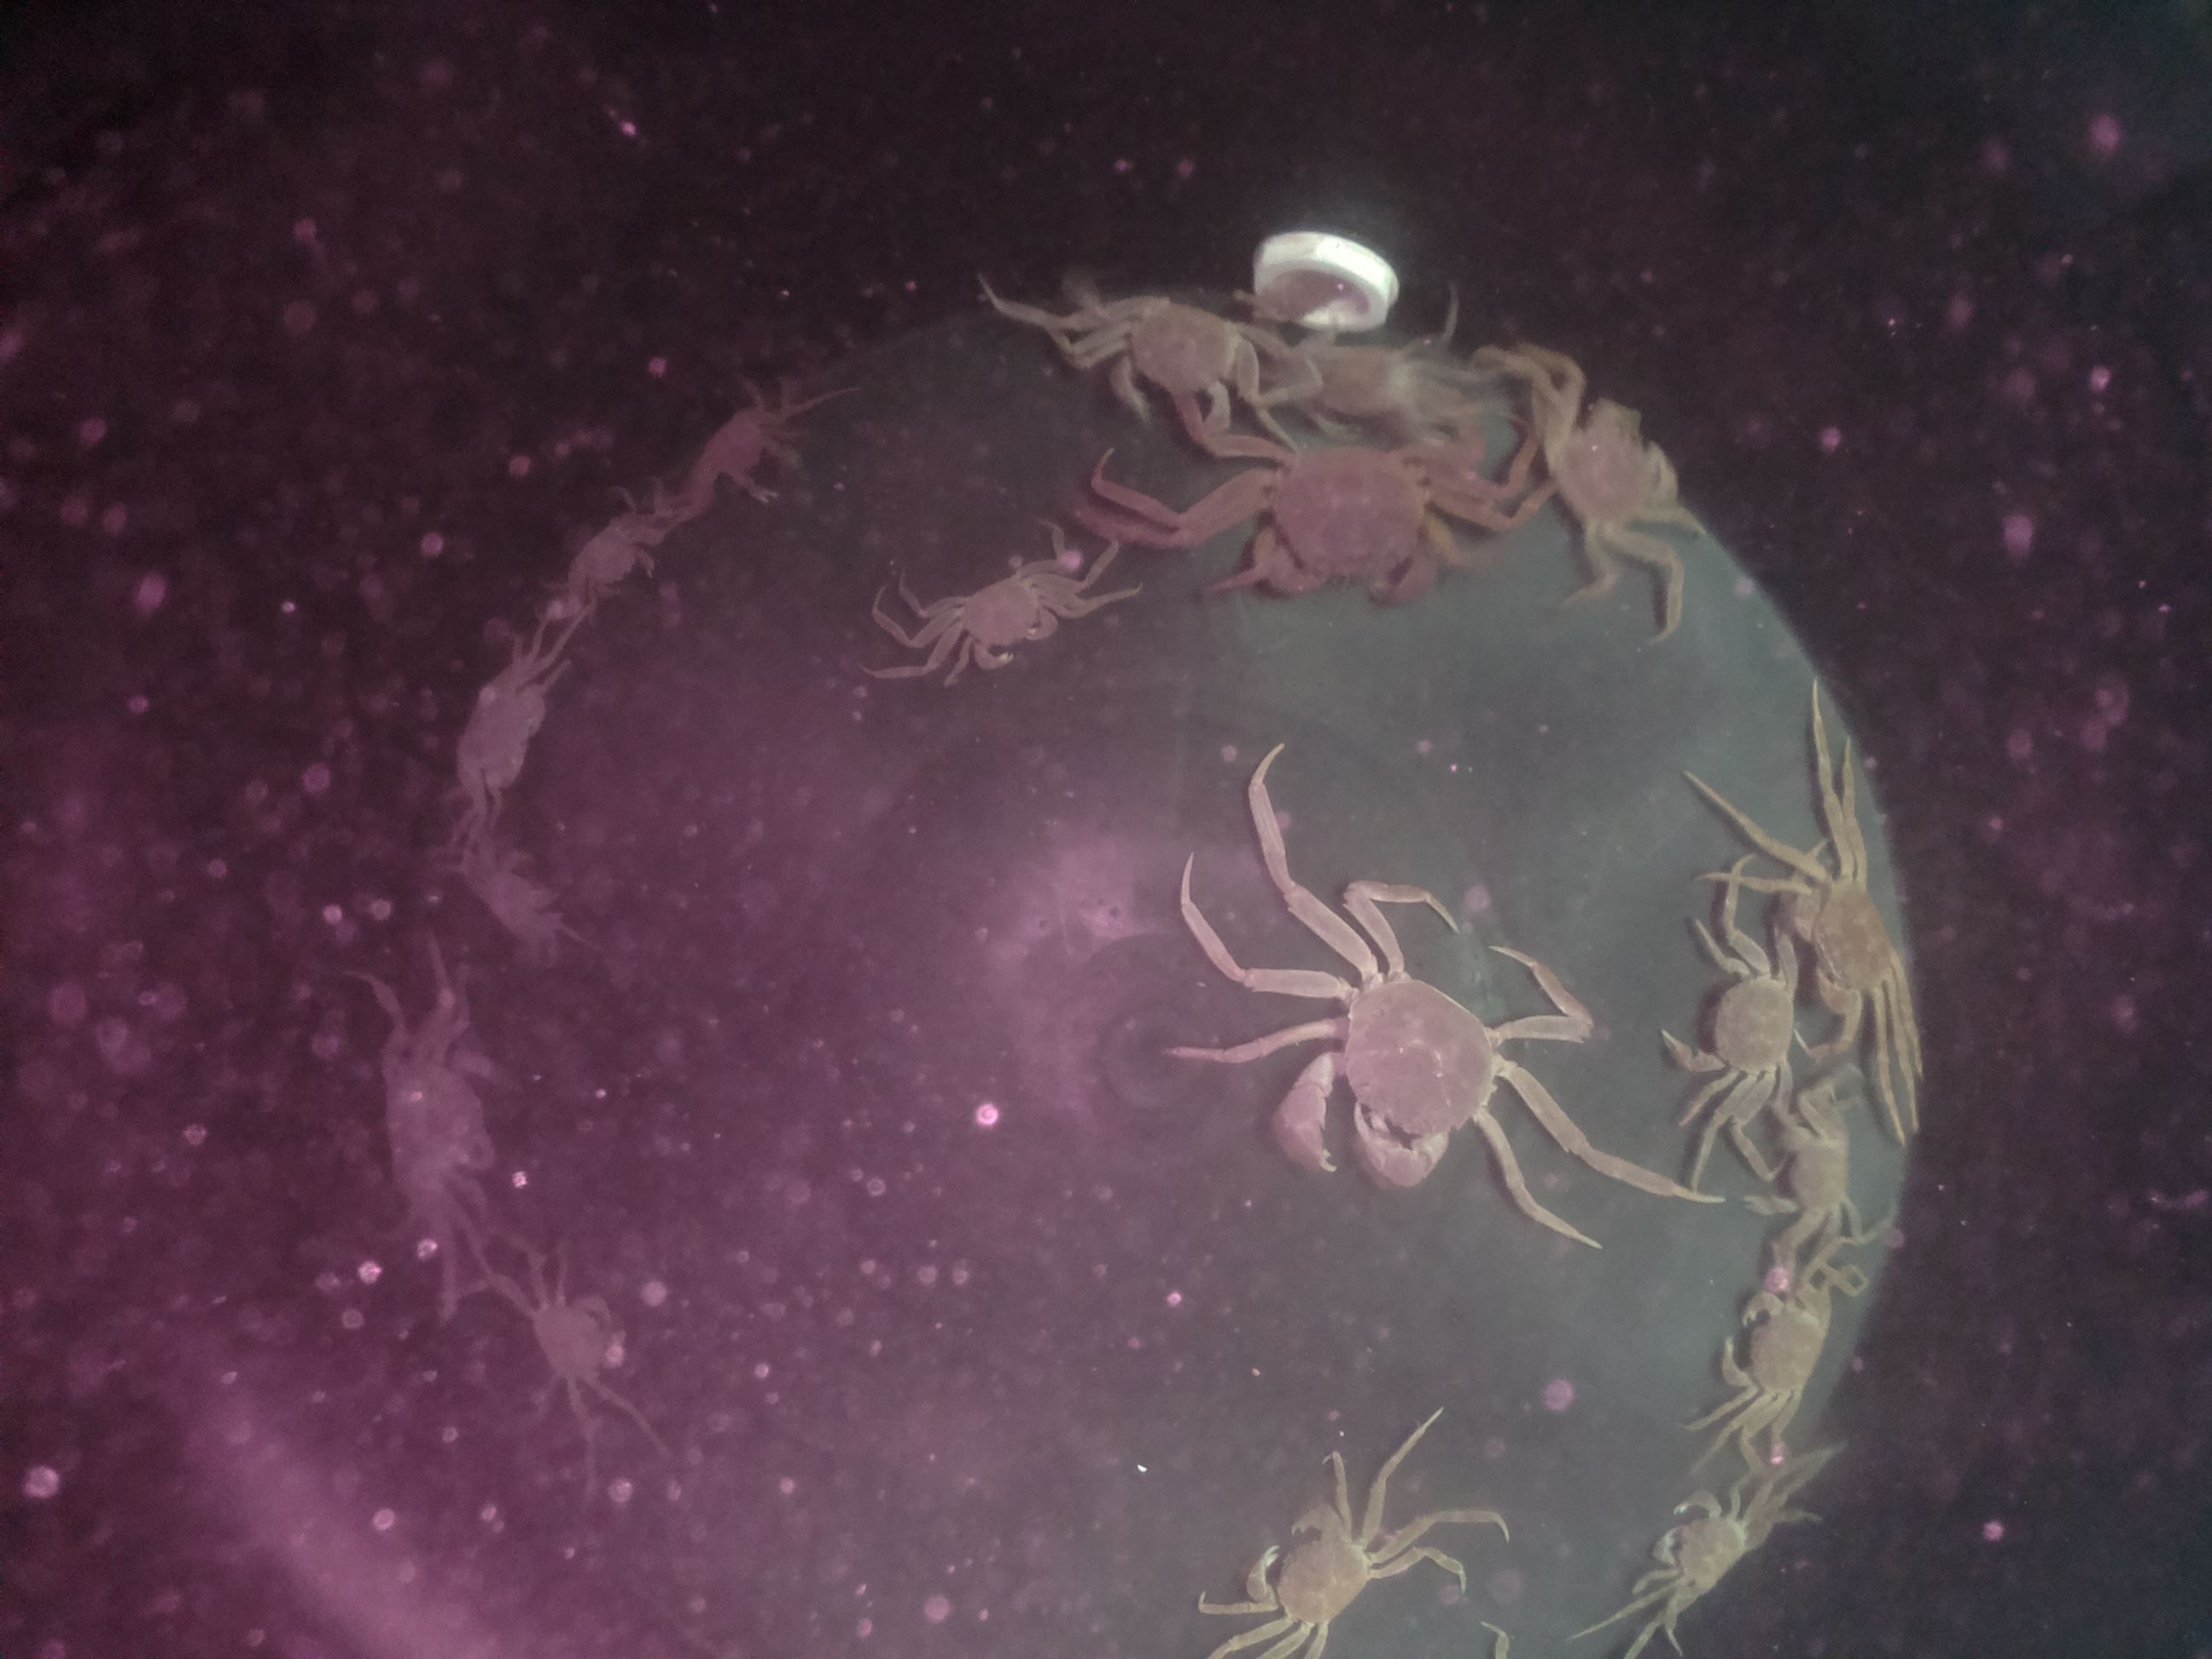Crab: (1258, 932, 1522, 1229), (1205, 432, 1474, 613), (1216, 1478, 1407, 1659), (1507, 378, 1686, 551), (1080, 281, 1275, 439), (1653, 925, 1822, 1105), (1632, 1474, 1785, 1633), (1695, 1277, 1858, 1422), (1742, 1089, 1876, 1243), (920, 551, 1066, 688), (496, 1274, 637, 1412), (681, 368, 798, 507)
